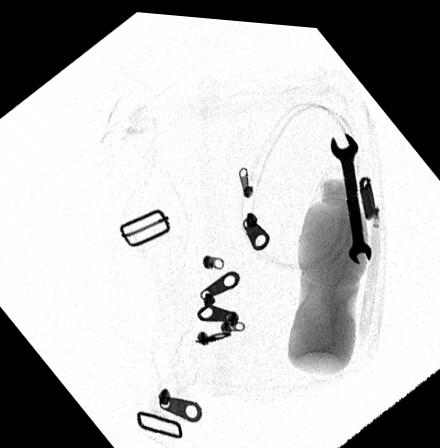Wrench: (328, 123, 372, 261)
